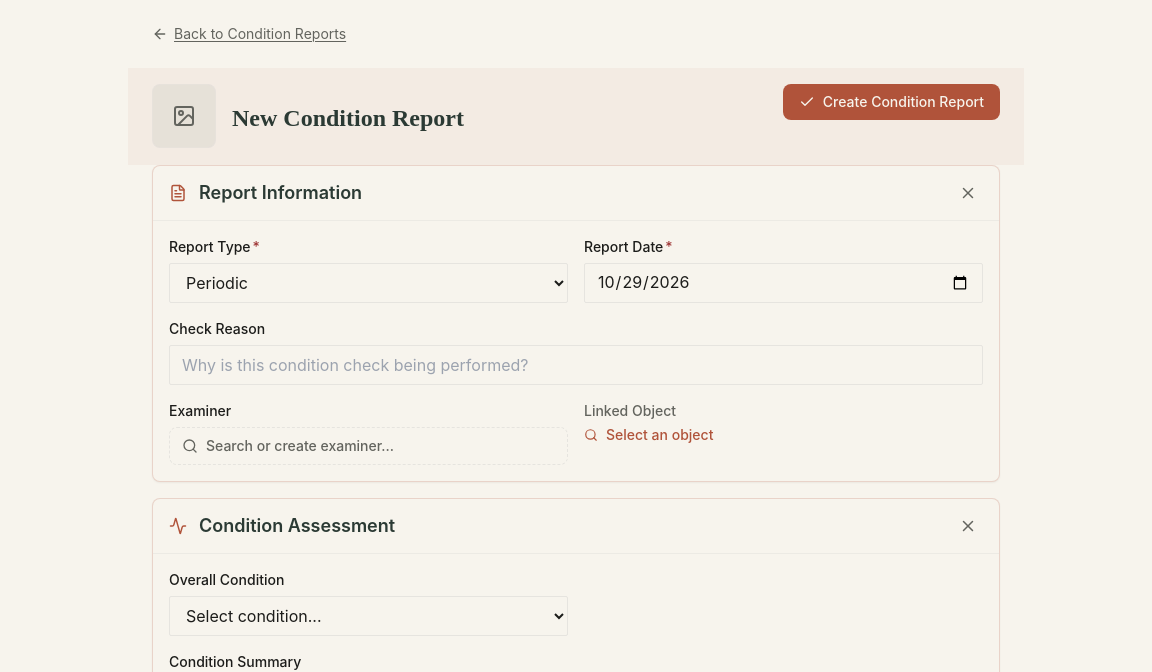
Scenario: ConditionReportWorkspacePage › create flow validation › blocks creation when the required object_id is missing and surfaces the validation error
Click the button "Create Condition Report": (891, 102) [783,84,1000,120]
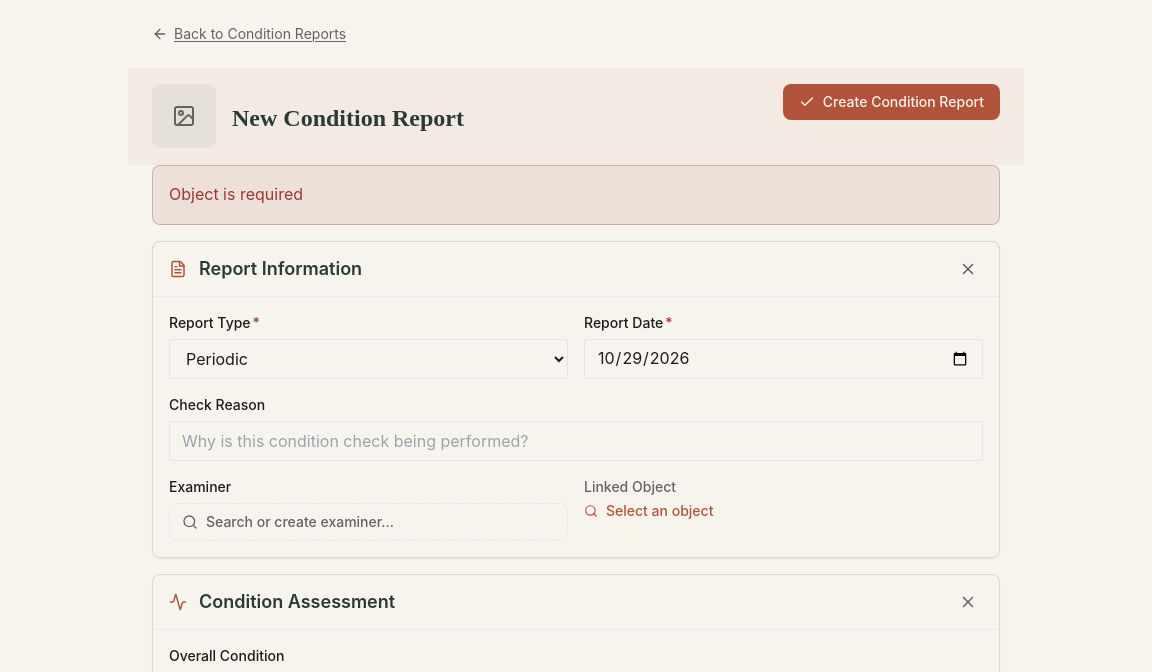
expect the text "Object is required" is shown: met, box [169,184,303,204]
